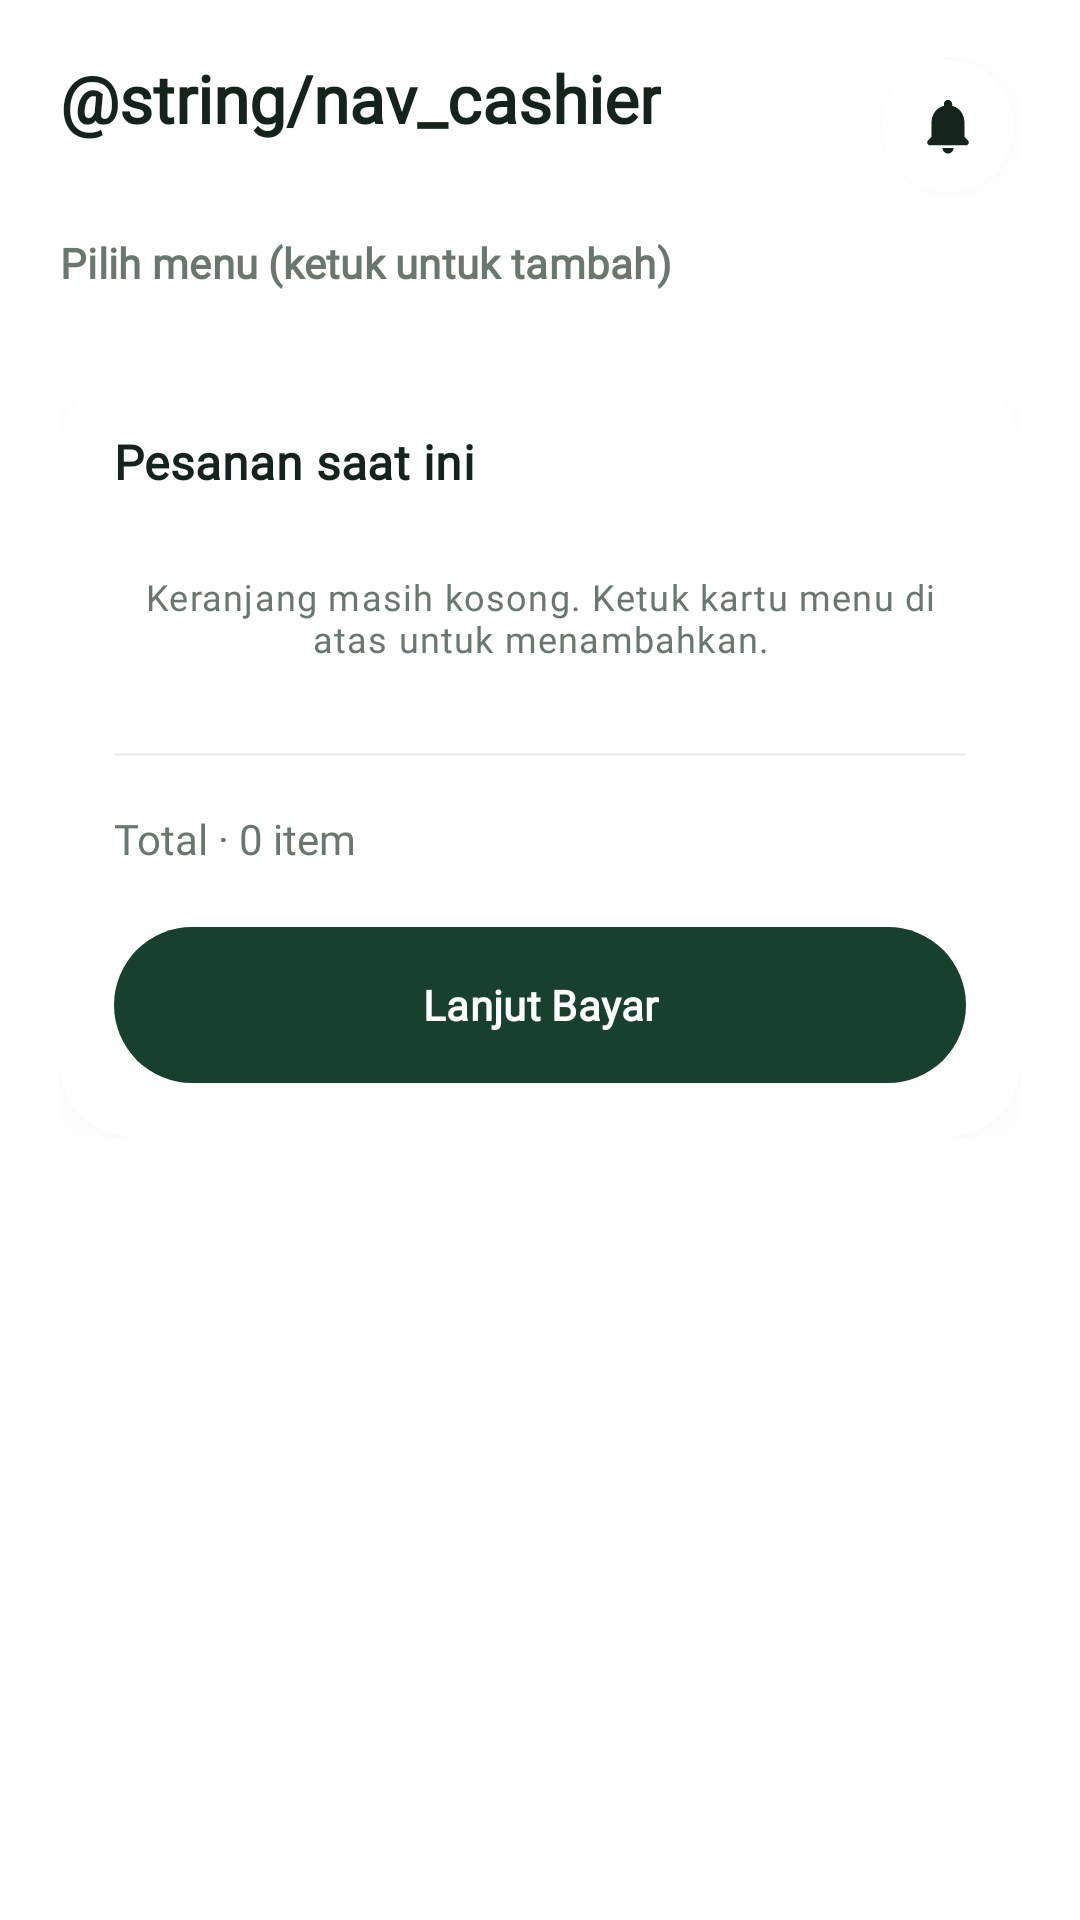

Icon bounding boxes for this 1080px x 1920px phone screenshot, format (x1, y1, x2, y2):
notifications: (927, 100, 969, 154)
